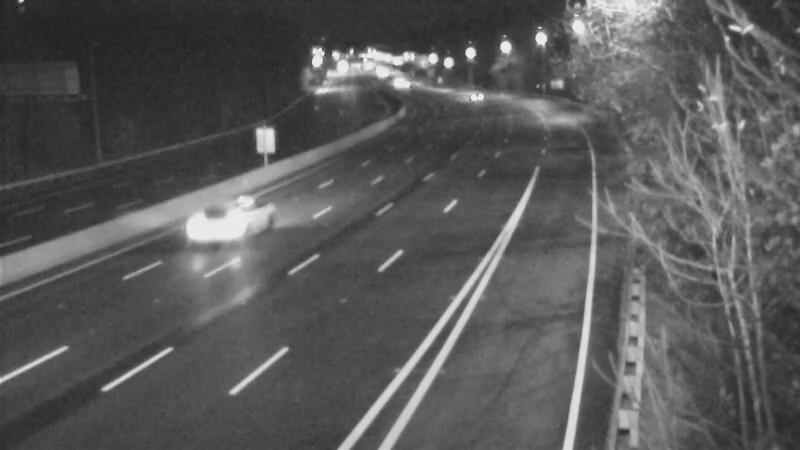vehicle: (177, 190, 257, 270), (446, 70, 496, 120)
